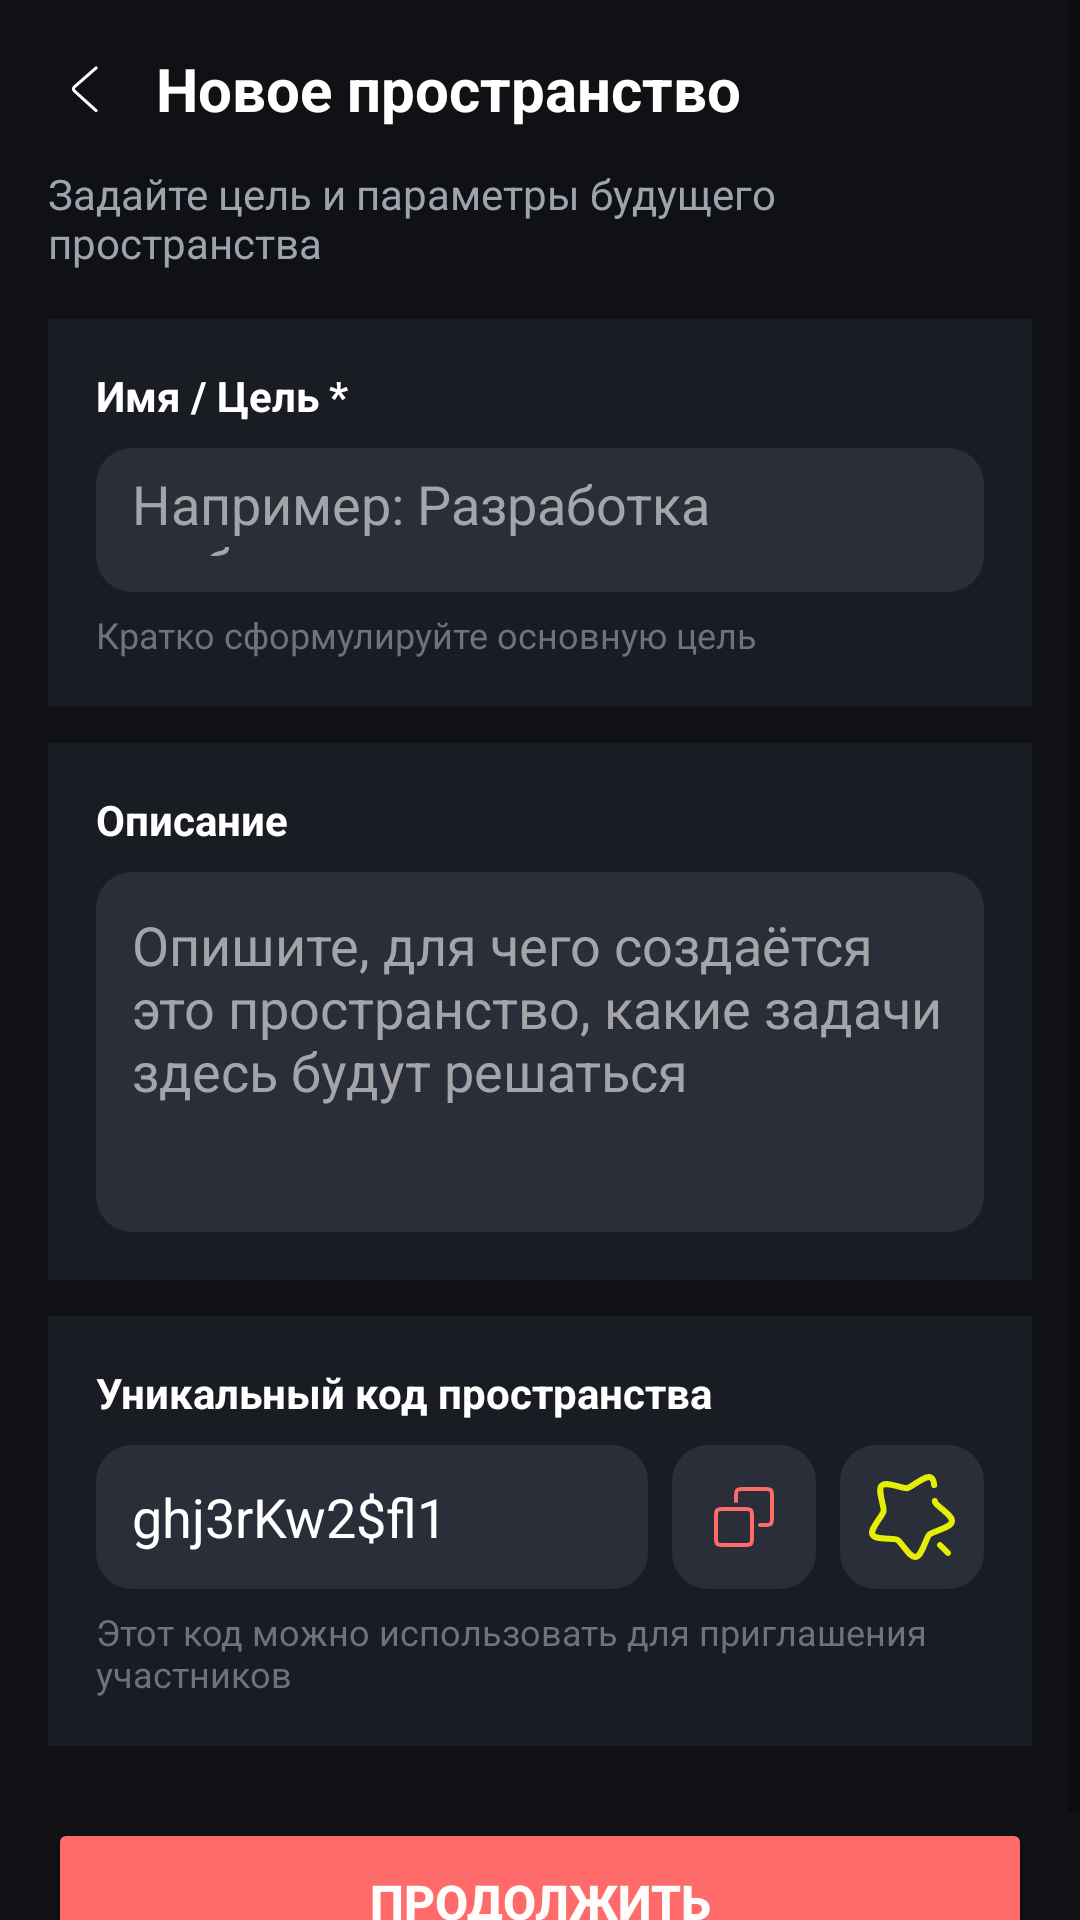

Point at icon controls on the screen. Image size 1080px x 1920px, points as (x=x, y=y).
back: (x=85, y=89)
generate: (x=912, y=1517)
